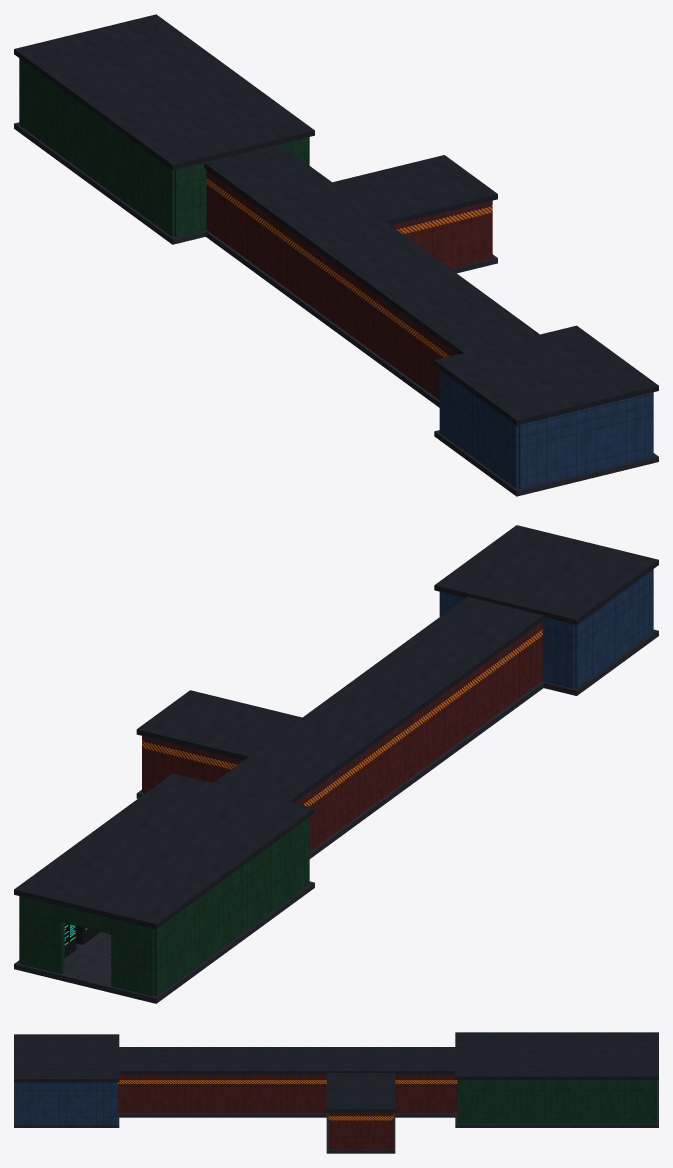
The model's file is w_hall.glb.
The picture shows the model from 3 angles, top to bottom: view 1: azimuth 30°, elevation 25°; view 2: azimuth 150°, elevation 25°; view 3: azimuth 270°, elevation 25°; orthographic projection. The views are drawn at different scales.
Visible parts, largest first — view 1: Hall; view 2: Hall; view 3: Hall.
Boxes of the visible parts, x1,y1,x2,y2 form: Hall: (14, 14, 658, 496); Hall: (14, 525, 658, 1003); Hall: (14, 1032, 658, 1153).
Bounding box in the file's own units: 13.6 × 4.6 × 52.6.
Materials: 15 (15 with a texture image).
